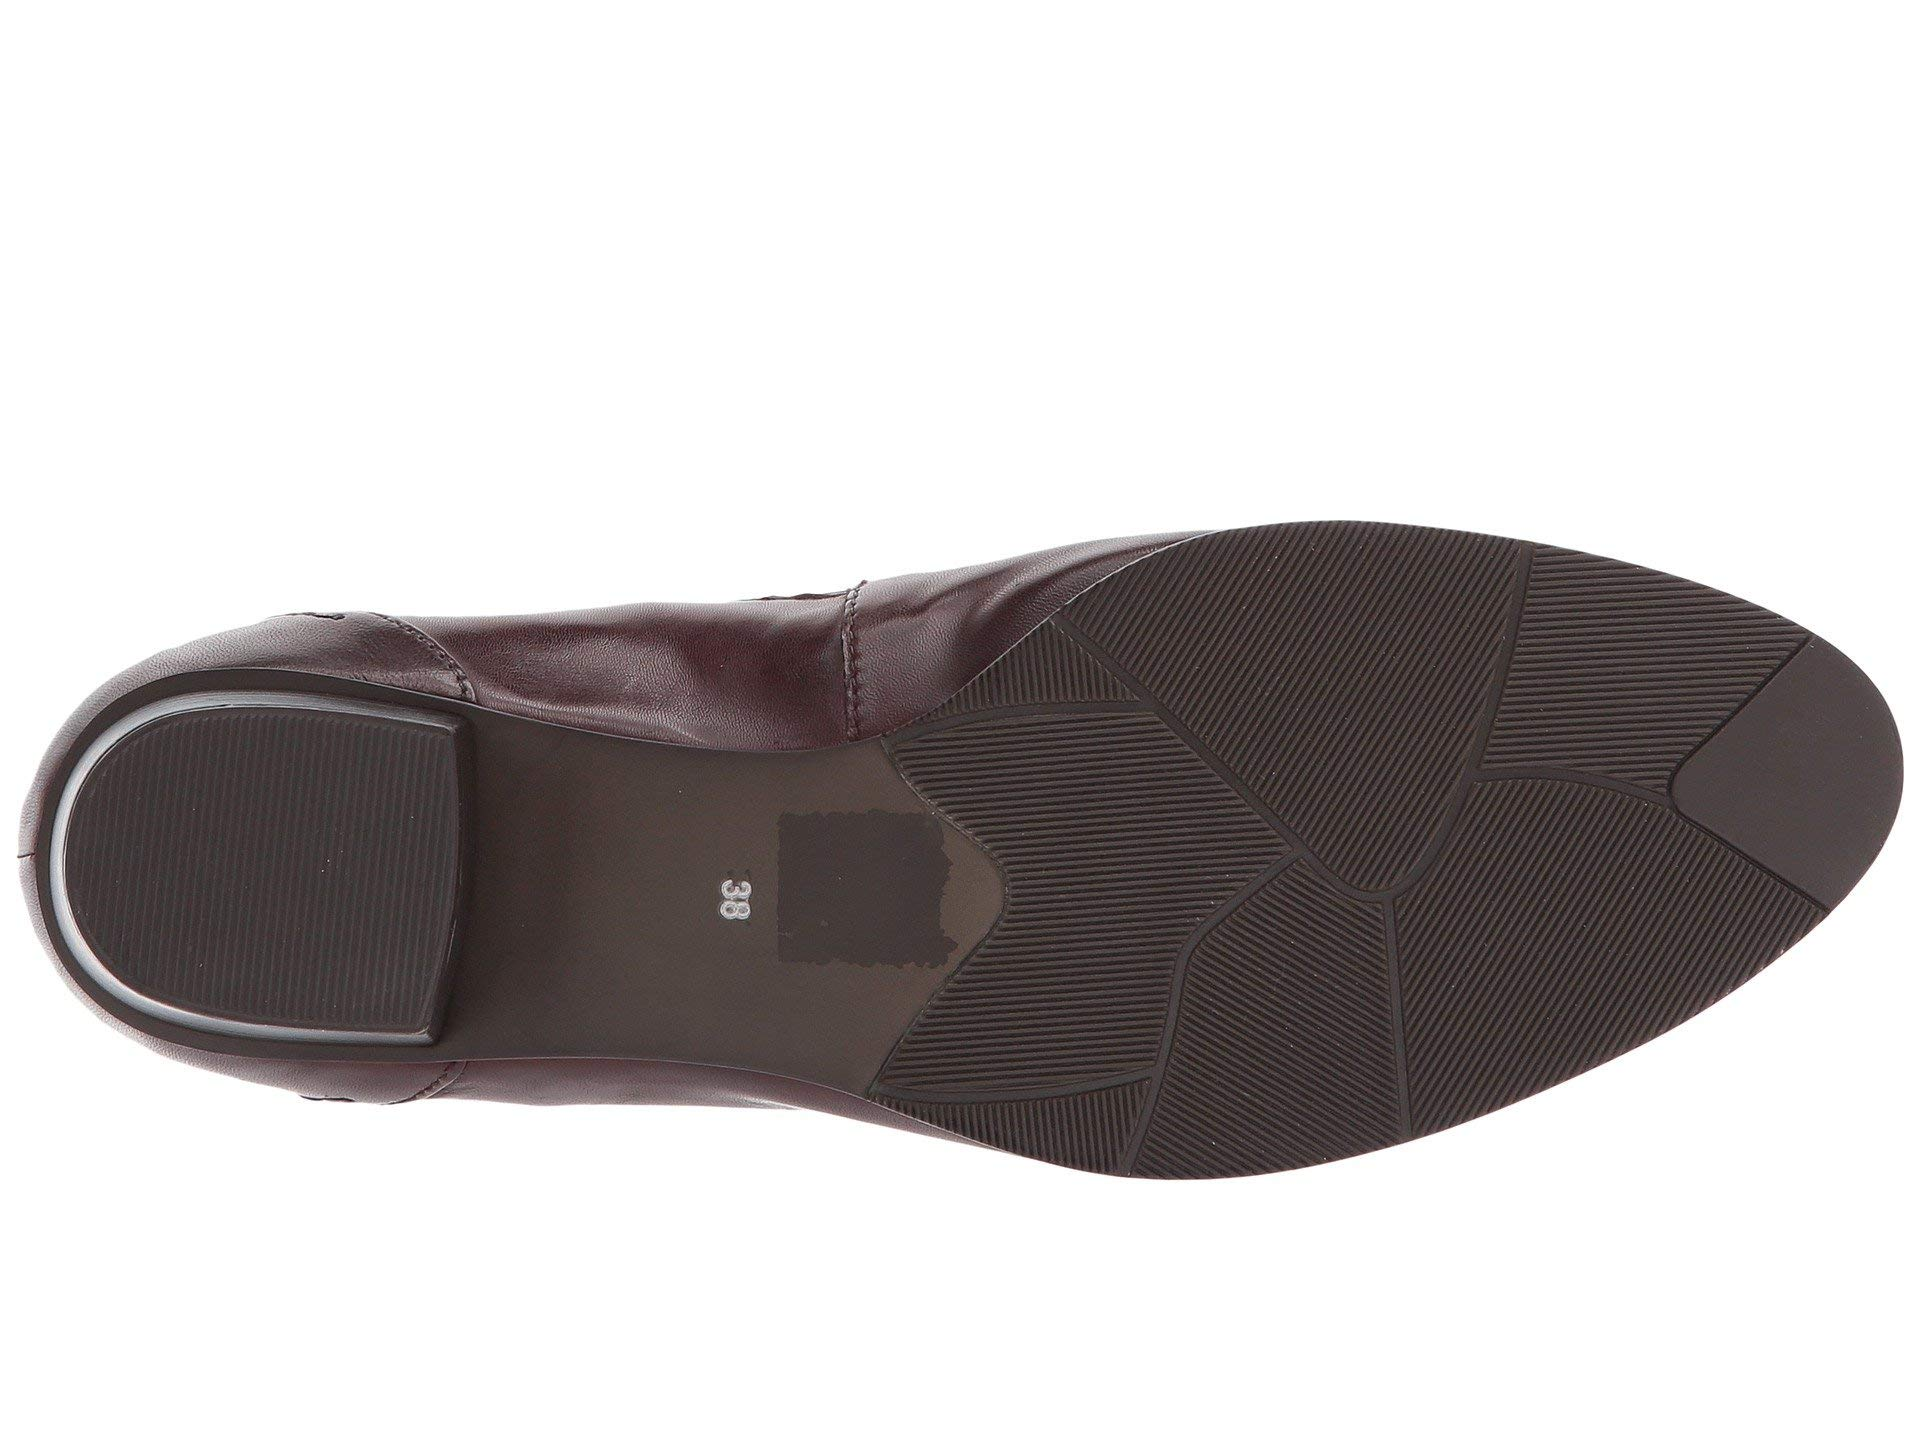line: (1477, 790, 1696, 1018), (1188, 576, 1445, 768), (186, 762, 404, 979), (1234, 917, 1377, 1141), (1544, 573, 1696, 765), (1008, 771, 1132, 980)
